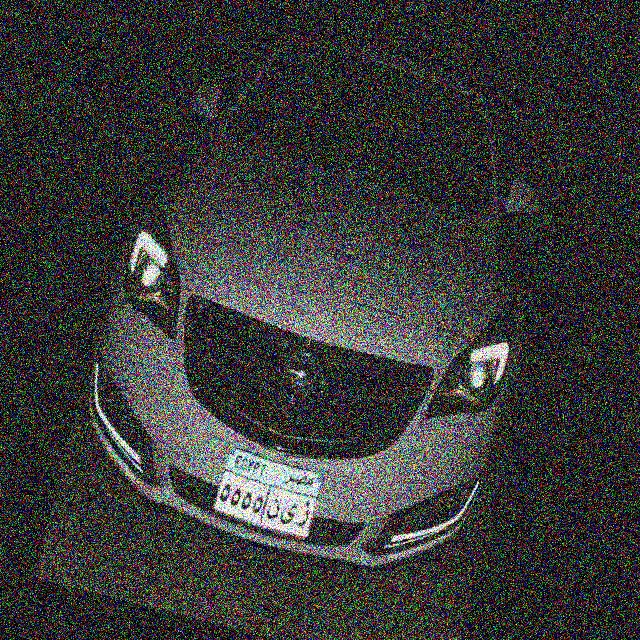License Plate: (209, 442, 328, 543)
